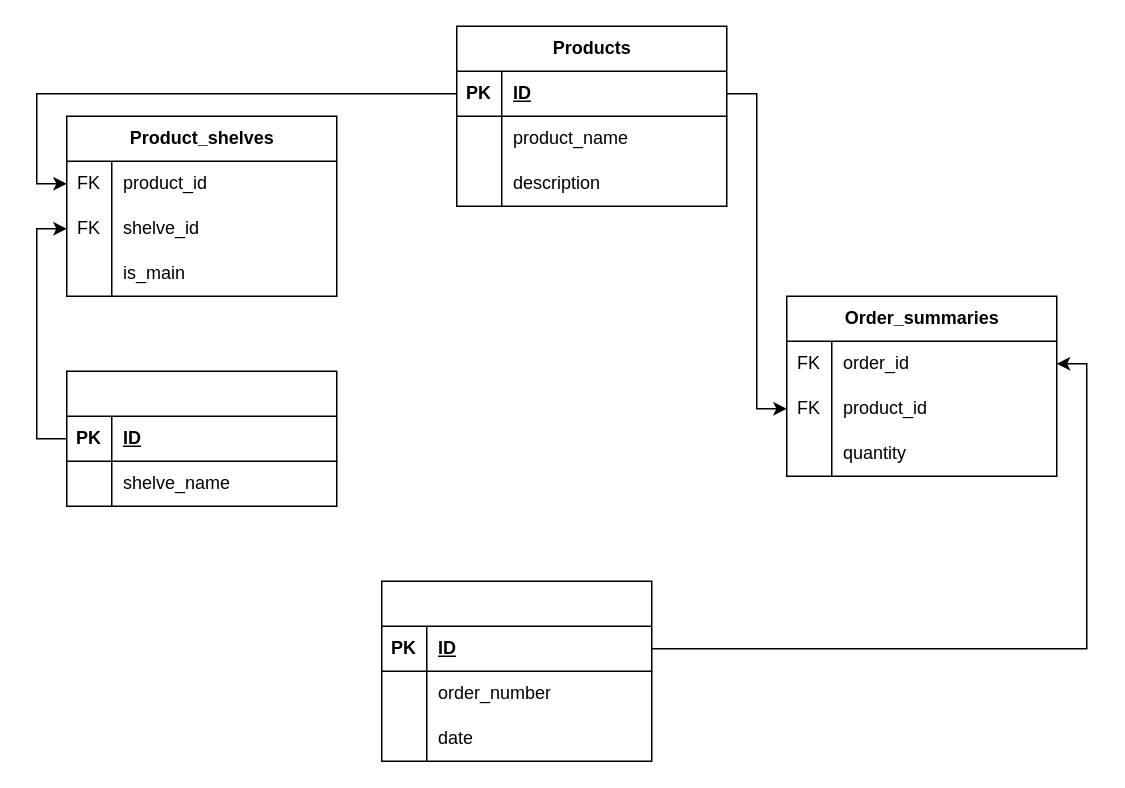
The diagram is 1125 pixels wide and 788 high, and some of its shapes have lost their labels. The box of each missing label's shape, as (x1, y1, x2, y2) in pixels:
Orders: (380, 580, 652, 761)
Shelves: (65, 370, 337, 506)
